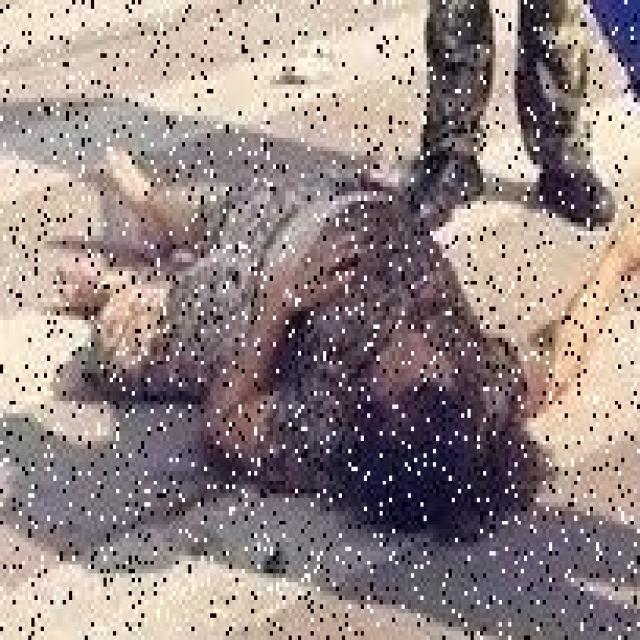fall: (76, 143, 520, 546)
